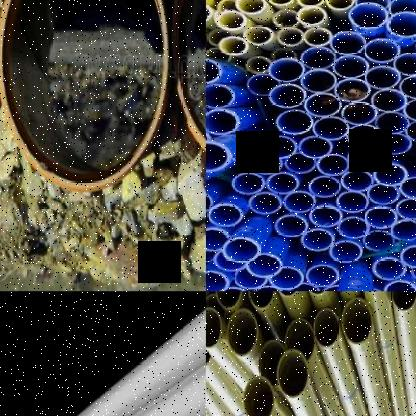pipe: (0, 0, 168, 191), (277, 350, 309, 398), (227, 309, 258, 358), (341, 298, 372, 344), (285, 318, 315, 362), (242, 376, 274, 416), (258, 340, 285, 386), (348, 2, 387, 29), (314, 308, 339, 347), (223, 237, 261, 262), (312, 116, 350, 140), (276, 110, 314, 134), (304, 93, 342, 117), (268, 84, 306, 108), (342, 101, 378, 126), (207, 203, 243, 227), (269, 58, 305, 82), (364, 38, 400, 62), (206, 109, 239, 135), (334, 79, 371, 102), (364, 66, 401, 89), (263, 135, 298, 159), (247, 254, 282, 278), (371, 89, 407, 112), (331, 31, 366, 54), (248, 192, 281, 216), (298, 136, 334, 158), (301, 70, 337, 92), (301, 46, 337, 68), (269, 267, 303, 290), (386, 12, 416, 38), (308, 206, 343, 228), (346, 125, 381, 147), (375, 112, 410, 134), (246, 74, 281, 96), (372, 258, 407, 280), (301, 228, 334, 251), (337, 217, 370, 240), (206, 142, 231, 172), (364, 207, 398, 229), (231, 172, 265, 194), (341, 170, 375, 192), (374, 164, 408, 186), (249, 153, 283, 175), (378, 132, 412, 154), (274, 215, 308, 237), (329, 241, 364, 262), (317, 154, 350, 176), (348, 147, 381, 169), (307, 265, 340, 287), (234, 268, 268, 289), (284, 191, 316, 213), (308, 176, 340, 198), (267, 172, 299, 194), (206, 84, 235, 108), (336, 192, 369, 213), (285, 153, 316, 174), (368, 184, 400, 204), (214, 252, 246, 272), (217, 10, 246, 31), (206, 228, 231, 252), (296, 7, 328, 25), (244, 26, 274, 45), (206, 307, 220, 347), (219, 37, 249, 55), (277, 27, 304, 47), (389, 220, 416, 240), (391, 291, 416, 312), (393, 53, 416, 75), (304, 28, 332, 46), (216, 291, 242, 310), (206, 271, 229, 292), (396, 198, 416, 221), (249, 291, 274, 309), (207, 29, 233, 46), (273, 10, 299, 27), (245, 57, 272, 73), (388, 0, 416, 15), (399, 244, 416, 268), (235, 0, 264, 14), (399, 75, 416, 98), (206, 58, 221, 84), (399, 176, 416, 198), (206, 48, 232, 62), (384, 280, 416, 291), (272, 48, 296, 60), (354, 0, 390, 8), (403, 98, 416, 120), (287, 283, 320, 291), (325, 0, 353, 9), (206, 243, 219, 262), (405, 120, 416, 141), (251, 285, 286, 291), (296, 0, 326, 6), (206, 333, 211, 367), (206, 192, 213, 214), (206, 3, 213, 24), (410, 262, 416, 282), (266, 0, 294, 4)
